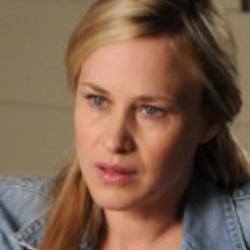face: (44, 1, 246, 211)
